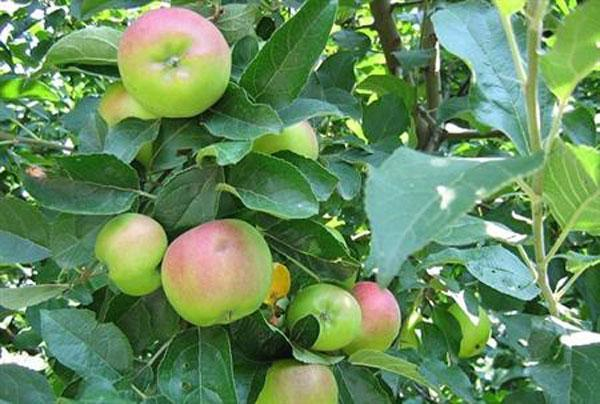apple: (113, 5, 230, 119), (160, 218, 272, 328), (91, 212, 167, 295), (287, 284, 359, 353), (349, 280, 401, 352)
